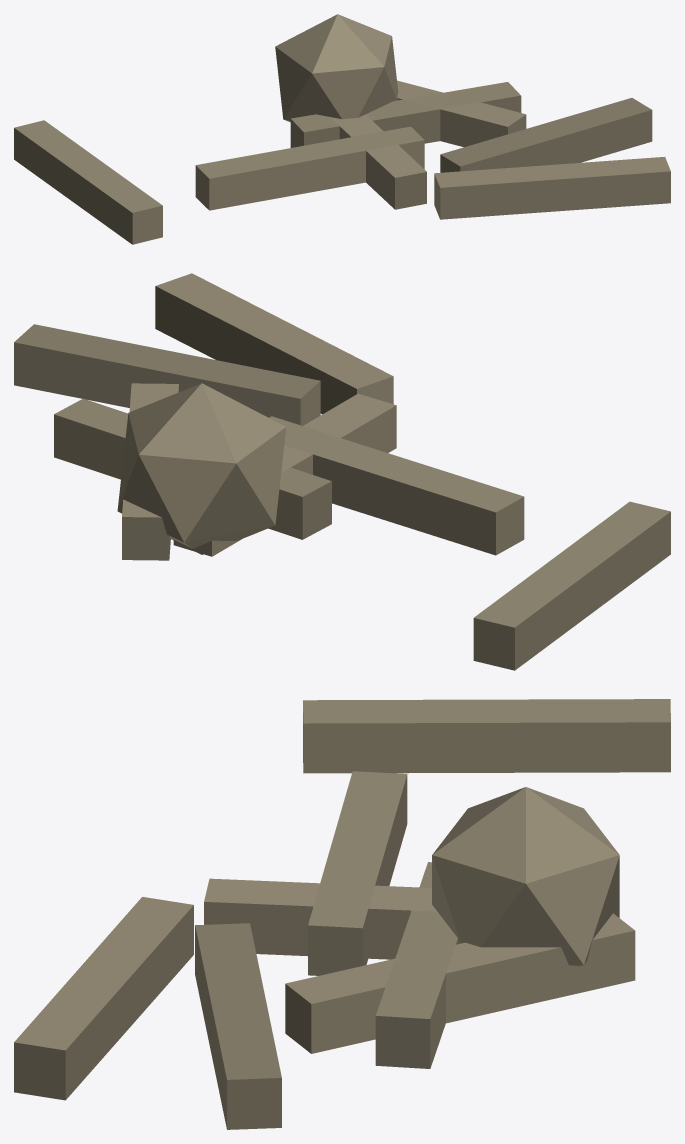
The model's file is bone_pile.glb.
3 renders of one model, top to bottom at view 1: azimuth 30°, elevation 25°; view 2: azimuth 150°, elevation 25°; view 3: azimuth 270°, elevation 25°, orthographic. The views are drawn at different scales.
Parts seen in each view (by area): view 1: BonePile; view 2: BonePile; view 3: BonePile.
Part boxes in pixels (bbox=[...]): BonePile: bbox=[14, 14, 670, 244]; BonePile: bbox=[14, 273, 670, 670]; BonePile: bbox=[14, 699, 670, 1129].
Bounding box in the file's own units: 0.9806 × 0.24 × 0.7148.
